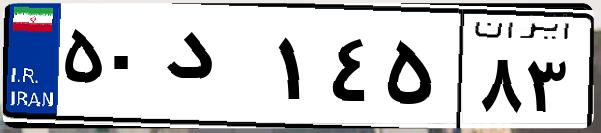0: (110, 28, 158, 98)
1: (270, 28, 330, 110)
3: (525, 38, 570, 115)
4: (330, 28, 385, 110)
5: (385, 28, 445, 110), (57, 26, 110, 100)
8: (475, 38, 525, 113)
د: (158, 20, 270, 120)
